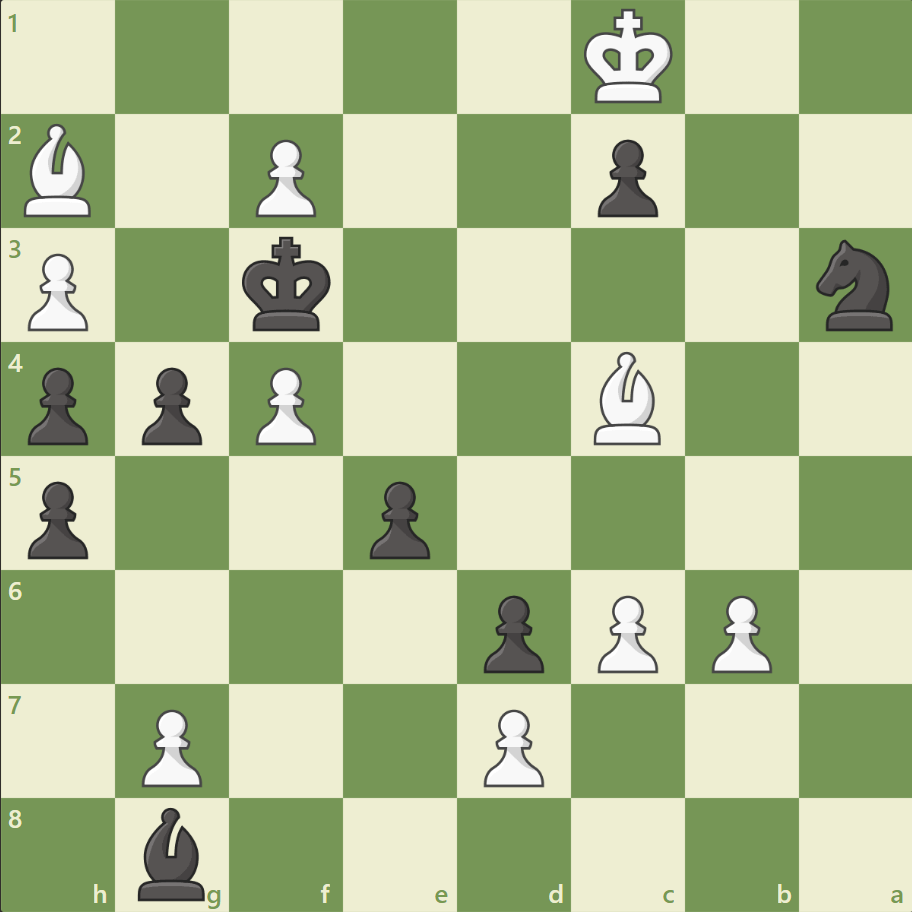B: (585, 347, 669, 449), (17, 120, 101, 222)
K: (579, 4, 679, 112)
P: (474, 700, 549, 791), (133, 700, 208, 791), (701, 586, 776, 677), (247, 359, 322, 450), (20, 246, 95, 337), (247, 132, 322, 223), (588, 586, 662, 677)
b: (131, 801, 215, 904)
k: (238, 231, 338, 339)
n: (806, 234, 903, 337)
p: (474, 586, 549, 677), (20, 473, 95, 564), (133, 359, 208, 450), (20, 359, 95, 450), (361, 473, 435, 564), (588, 132, 662, 223)
